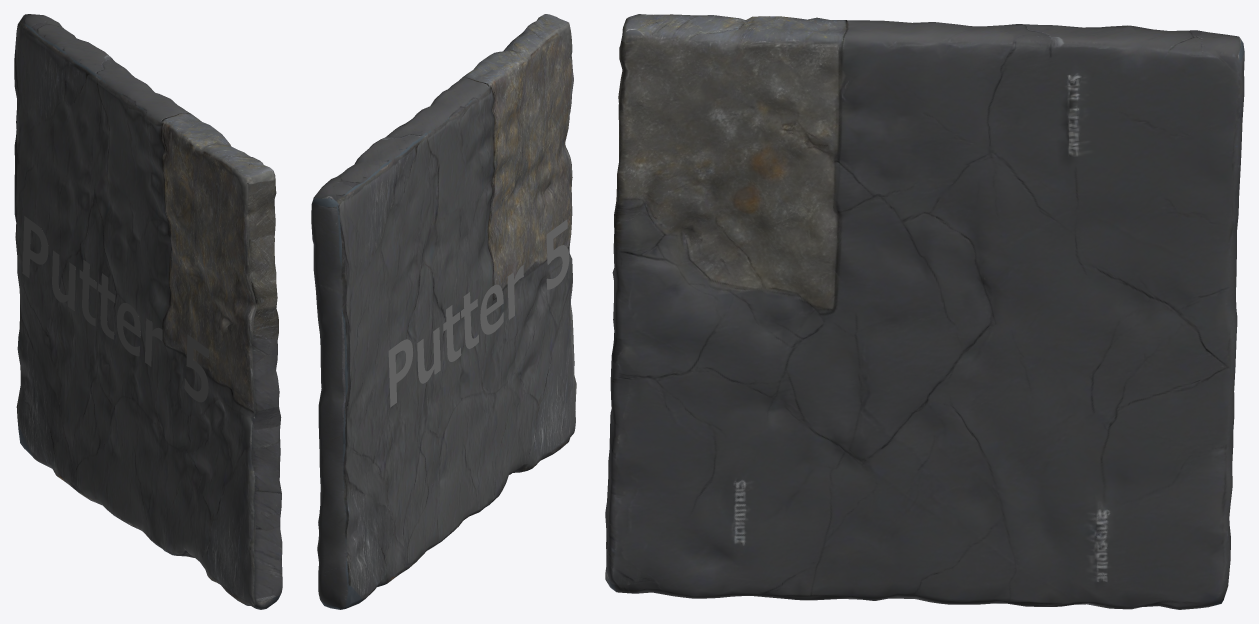
File: Putter5.fbx
3 renders of one model, left to right at view 1: azimuth 30°, elevation 25°; view 2: azimuth 150°, elevation 25°; view 3: azimuth 270°, elevation 25°, orthographic. The views are drawn at different scales.
Parts seen in each view (by area): view 1: input, テキスト プラス001; view 2: input, テキスト プラス001; view 3: input.
Boxes of the visible parts, bbox=[...] form: input: bbox=[14, 14, 282, 609]; テキスト プラス001: bbox=[22, 216, 208, 402]; input: bbox=[311, 14, 576, 609]; テキスト プラス001: bbox=[388, 219, 569, 407]; input: bbox=[605, 14, 1244, 609].
Size of the model in its own units: 25 by 202 by 201.
